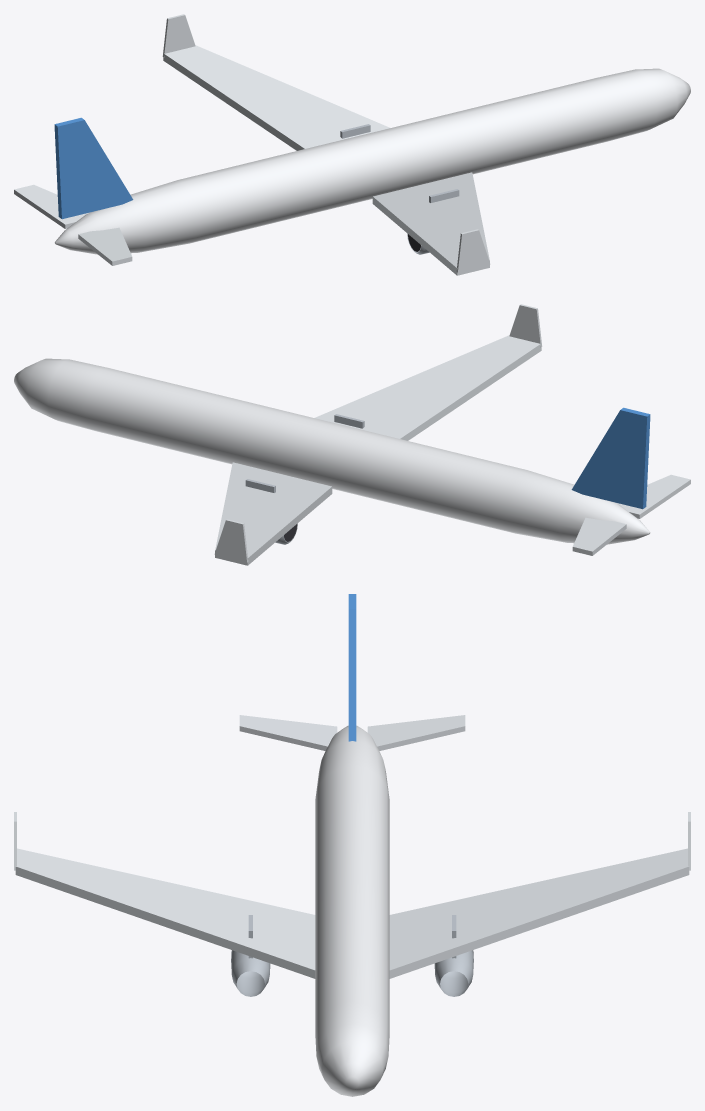
File: a321xlr.glb
3 views of the same model, one above another, from view 1: azimuth 30°, elevation 25°; view 2: azimuth 150°, elevation 25°; view 3: azimuth 270°, elevation 25° (orthographic). The views are drawn at different scales.
Visible parts, largest first — view 1: A321XLR; view 2: A321XLR; view 3: A321XLR.
Boxes of the visible parts, bbox=[...] form: A321XLR: bbox=[14, 14, 690, 275]; A321XLR: bbox=[14, 304, 690, 565]; A321XLR: bbox=[14, 594, 690, 1096].
Bounding box in the file's own units: 44.51 × 11.65 × 35.96.
